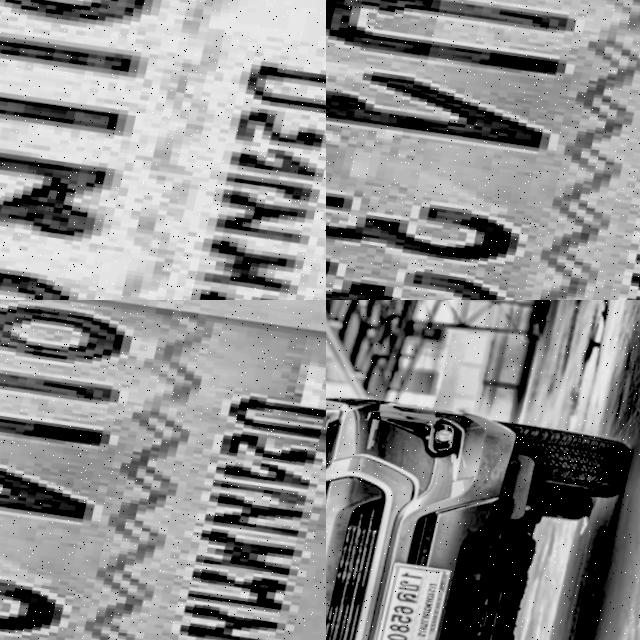license-plate: (0, 300, 326, 640), (0, 0, 326, 300), (326, 0, 640, 300), (367, 555, 468, 640)
